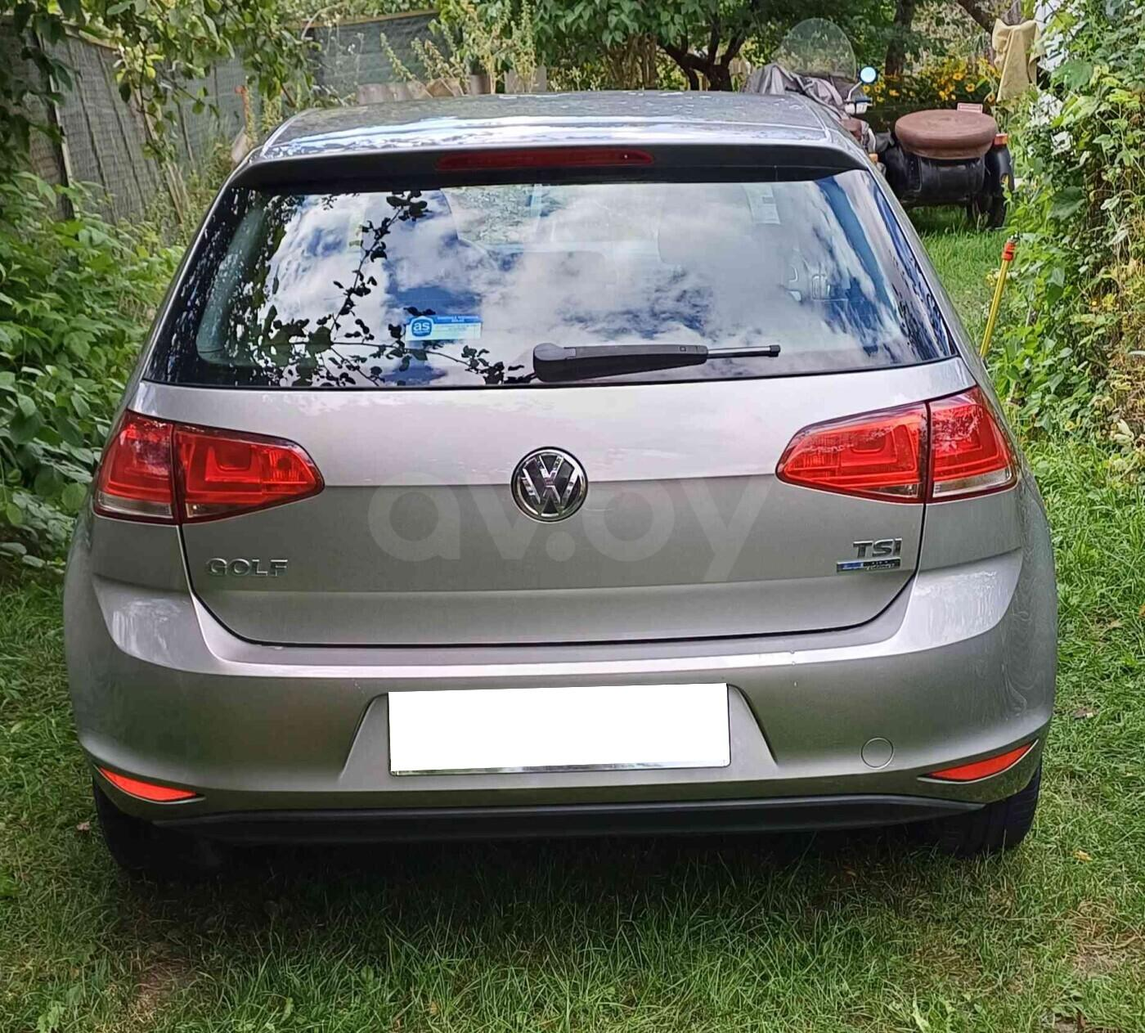Golf_2012-2017: (65, 80, 1063, 884)
